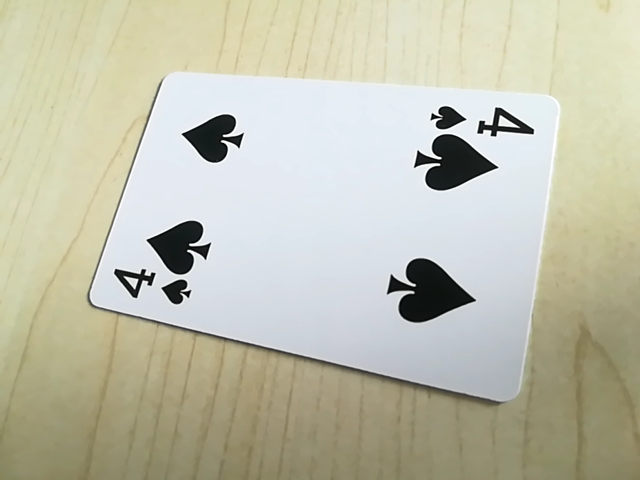ht 4: (423, 96, 536, 139), (104, 263, 201, 313)
